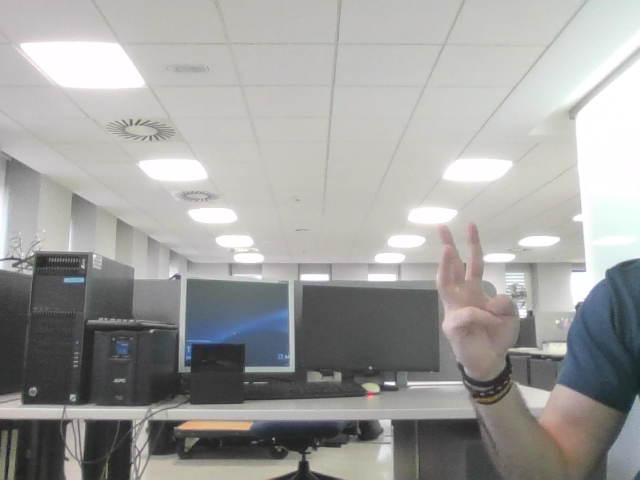3Dedos: (447, 233, 509, 336)
